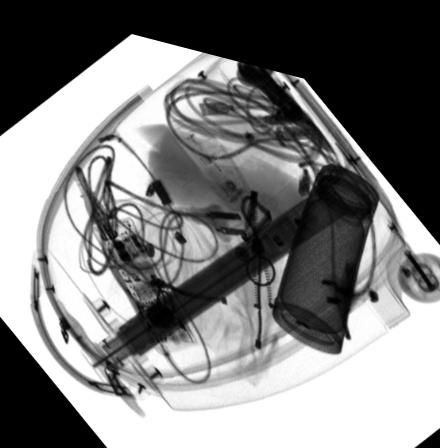Knife: (236, 49, 335, 136)
